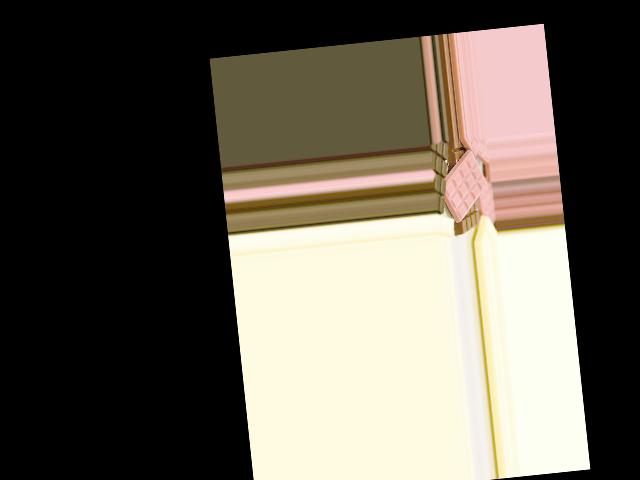chocolate: (430, 147, 492, 223)
